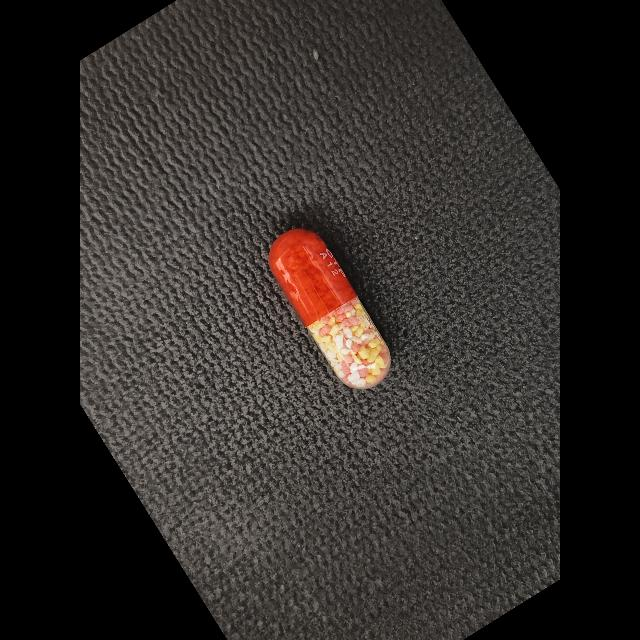Intact Capsule: (268, 228, 391, 389)
